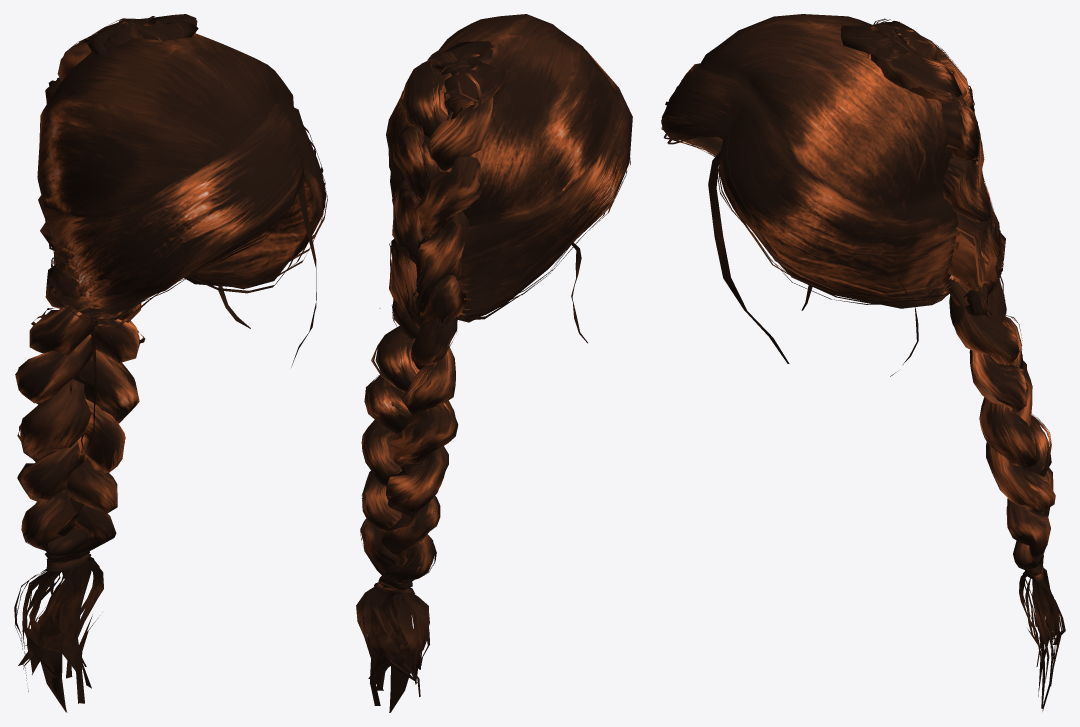
File: mh_elvs_unkempt_french_braid.glb
3 views of the same model, side by side, from view 1: azimuth 30°, elevation 25°; view 2: azimuth 150°, elevation 25°; view 3: azimuth 270°, elevation 25° (orthographic). The views are drawn at different scales.
Visible parts, largest first — view 1: mh_elvs_unkempt_french_braid; view 2: mh_elvs_unkempt_french_braid; view 3: mh_elvs_unkempt_french_braid.
Boxes of the visible parts, bbox=[...] form: mh_elvs_unkempt_french_braid: bbox=[14, 14, 327, 712]; mh_elvs_unkempt_french_braid: bbox=[356, 14, 632, 712]; mh_elvs_unkempt_french_braid: bbox=[661, 14, 1065, 711].
Bounding box in the file's own units: 0.2023 × 0.6246 × 0.3372.
Materials: 1 (1 with a texture image).
